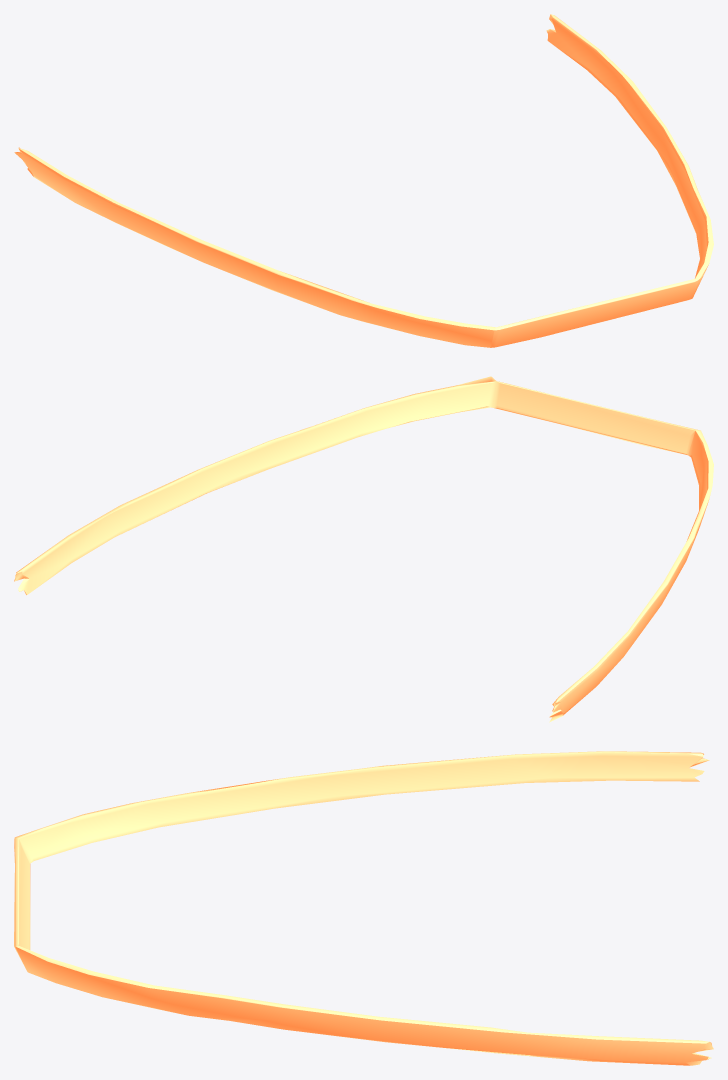
Rendered from SM_Trim_BraceBack02.fbx.
3 views of the same model, one above another, from view 1: azimuth 30°, elevation 25°; view 2: azimuth 150°, elevation 25°; view 3: azimuth 270°, elevation 25° (orthographic). The views are drawn at different scales.
Parts seen in each view (by area): view 1: SM_Trim_BraceBack02_LOD0; view 2: SM_Trim_BraceBack02_LOD0; view 3: SM_Trim_BraceBack02_LOD0.
Boxes of the visible parts, left/top/right/bottom form: SM_Trim_BraceBack02_LOD0: left=14, top=14, right=713, bottom=347; SM_Trim_BraceBack02_LOD0: left=14, top=376, right=713, bottom=722; SM_Trim_BraceBack02_LOD0: left=14, top=751, right=713, bottom=1065.
Bounding box in the file's own units: 1213 × 1233 × 66.6.
